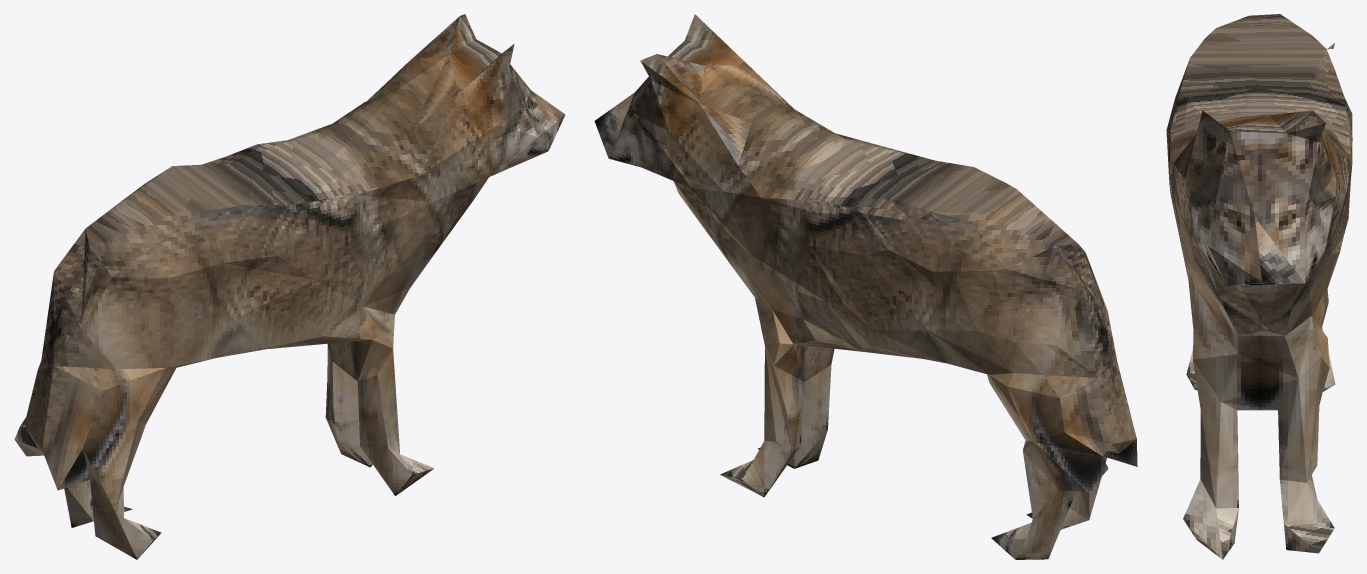
File: animal.salvaje.coyote.glb
The picture shows the model from 3 angles, left to right: view 1: azimuth 30°, elevation 25°; view 2: azimuth 150°, elevation 25°; view 3: azimuth 270°, elevation 25°; orthographic projection. The views are drawn at different scales.
Visible parts, largest first — view 1: animal.salvaje.coyote; view 2: animal.salvaje.coyote; view 3: animal.salvaje.coyote.
Part boxes in pixels (<box>): animal.salvaje.coyote: <box>14,14,565,559</box>; animal.salvaje.coyote: <box>594,14,1137,559</box>; animal.salvaje.coyote: <box>1166,14,1352,559</box>.
Size of the model in its own units: 1.01 by 0.7632 by 0.256.
1 material, 1 textured.
